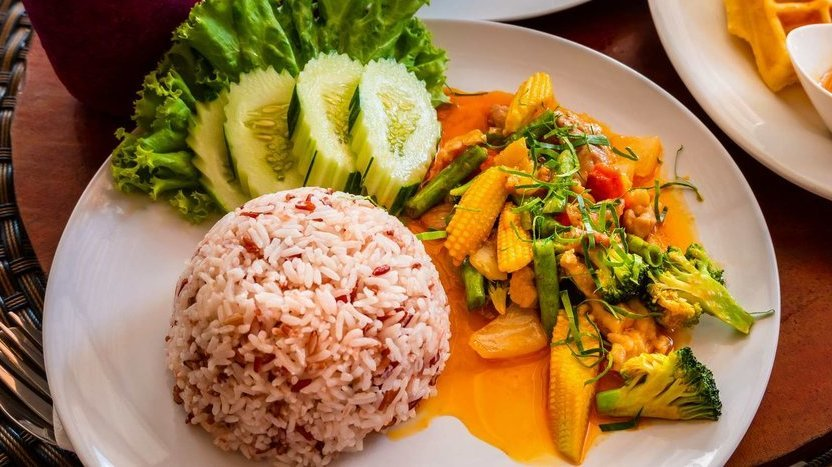Nasi Merah: (133, 204, 444, 467)
